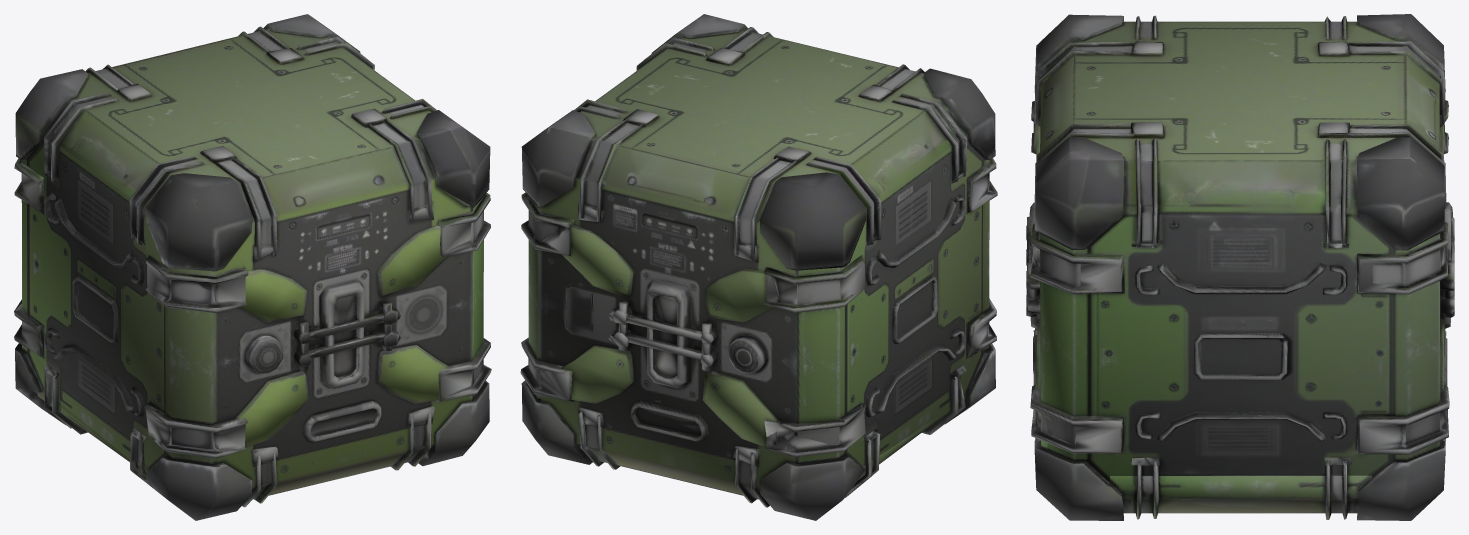
Rendered from Chest.glb.
The picture shows the model from 3 angles, left to right: view 1: azimuth 30°, elevation 25°; view 2: azimuth 150°, elevation 25°; view 3: azimuth 270°, elevation 25°; orthographic projection. The views are drawn at different scales.
Size of the model in its own units: 1.93 by 1.87 by 2.
Materials: 1 (1 with a texture image).
